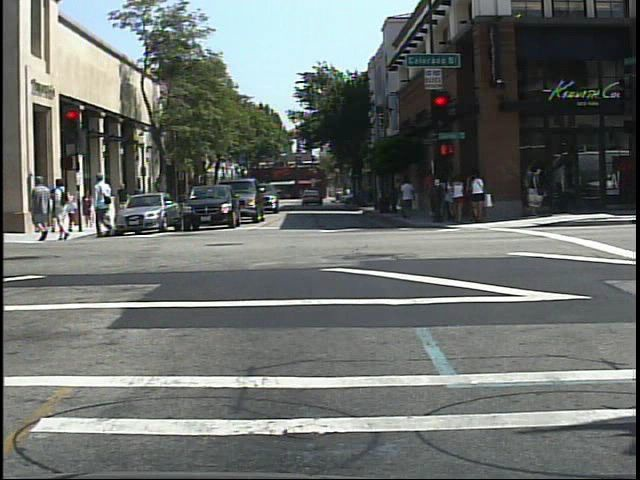person: (29, 171, 52, 245), (93, 170, 118, 237), (53, 176, 76, 245)
